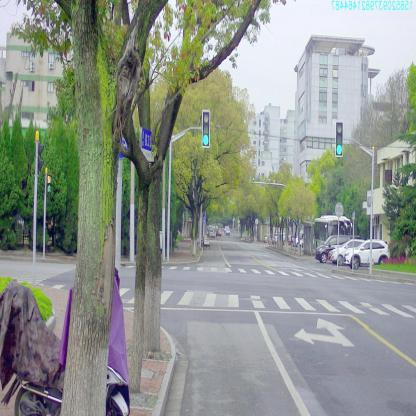traffic-light: (202, 111, 210, 147), (336, 121, 343, 156)
